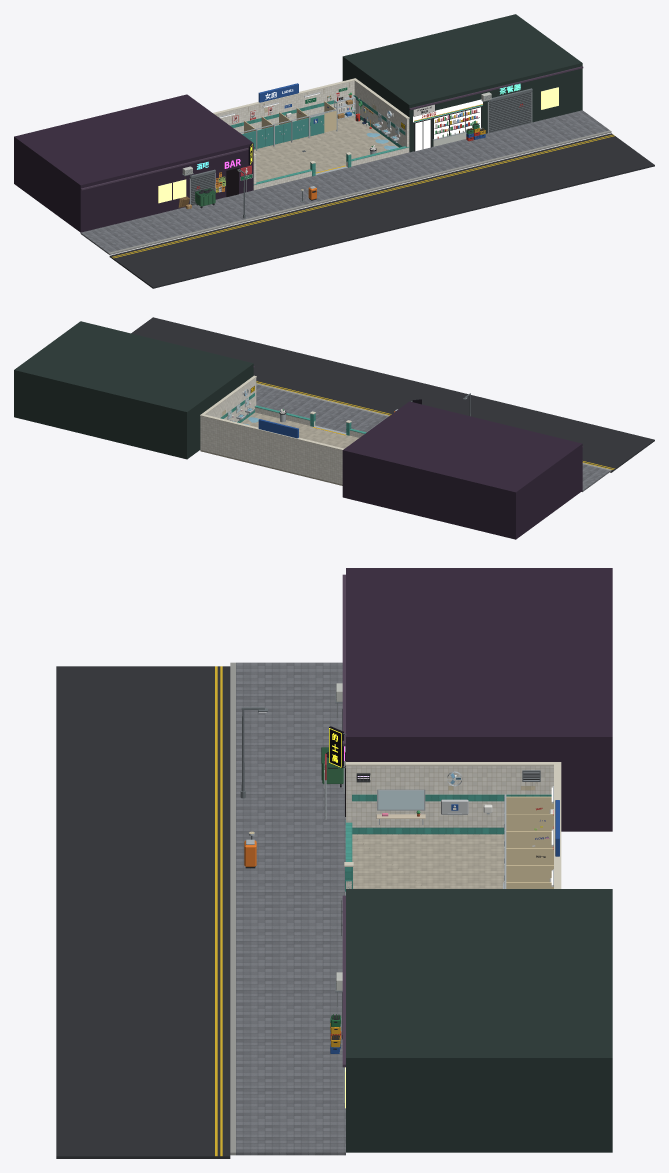
Rendered from level_womens.glb.
3 views of the same model, one above another, from view 1: azimuth 30°, elevation 25°; view 2: azimuth 150°, elevation 25°; view 3: azimuth 270°, elevation 25° (orthographic). The views are drawn at different scales.
Visible parts, largest first — view 1: neighbours, street, walls, floor, decor, stall_partitions, signage, supply; view 2: neighbours, street, walls, floor, signage; view 3: street, neighbours, walls, floor, stall_partitions, decor.
Boxes of the visible parts, x1,y1,x2,y2 form: neighbours: [14, 14, 583, 232]; street: [80, 110, 654, 288]; walls: [213, 78, 409, 190]; floor: [253, 116, 398, 182]; decor: [195, 92, 405, 218]; stall_partitions: [240, 101, 337, 150]; signage: [240, 83, 298, 197]; supply: [334, 87, 355, 119]; neighbours: [14, 321, 583, 539]; street: [131, 317, 654, 491]; walls: [200, 375, 366, 484]; floor: [200, 412, 358, 485]; signage: [258, 419, 298, 438]; street: [56, 662, 345, 1158]; neighbours: [329, 568, 612, 1152]; walls: [344, 761, 561, 891]; floor: [352, 834, 504, 888]; stall_partitions: [503, 794, 553, 888]; decor: [240, 707, 553, 895].
Size of the model in its own units: 40 by 3.92 by 19.2.
102 materials, 5 textured.
